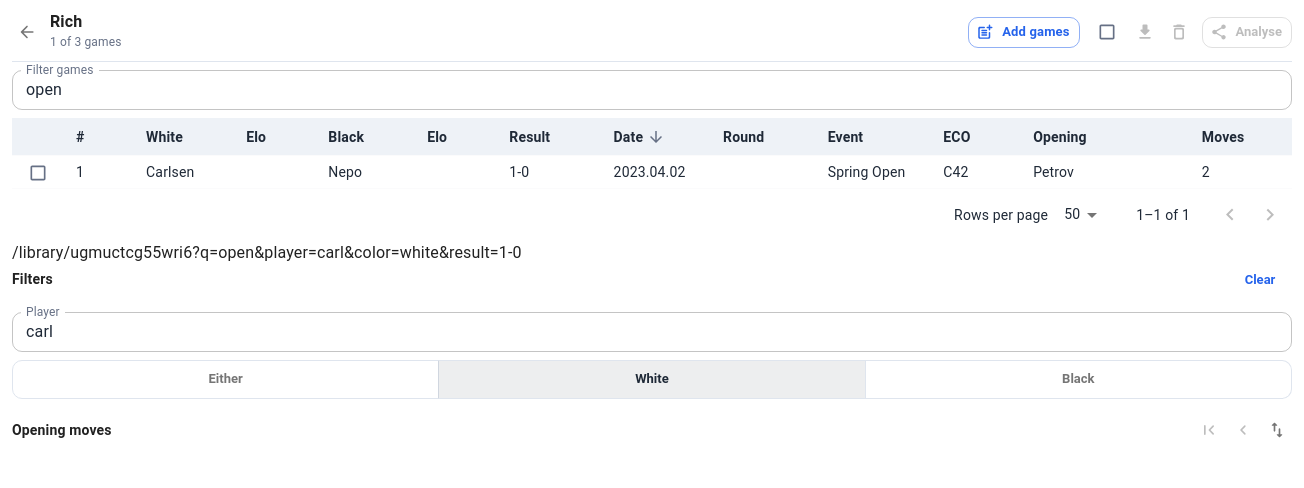
Test case: the table's filters › clears every filter at once, leaving the words box alone
Expected: the table with test id "library-table" is shown, [12,118,1292,189]
Click the button with test id "library-filter-clear" at (1260, 280), box [1228,265,1292,296]
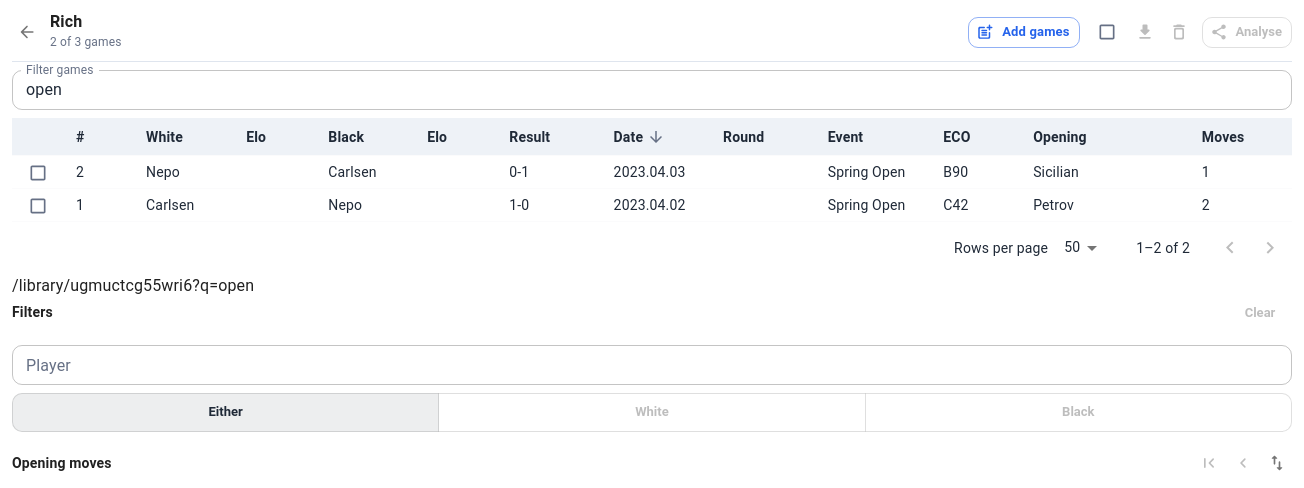
Expected: the button with test id "library-filter-clear" is disabled, [1228,298,1292,329]
